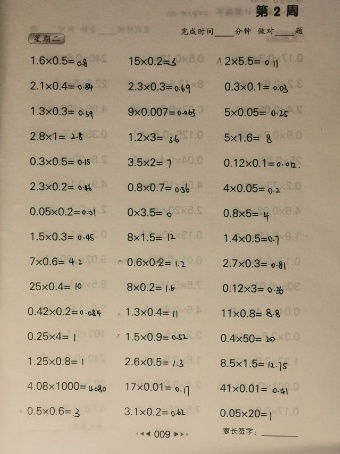equation: (25, 380, 108, 394), (28, 53, 90, 71), (221, 156, 298, 170), (124, 380, 192, 395), (222, 79, 290, 94), (125, 105, 197, 119), (28, 104, 95, 119), (26, 305, 103, 318), (218, 382, 289, 396), (218, 357, 289, 371), (126, 79, 192, 94), (214, 54, 280, 69), (222, 105, 290, 119), (220, 257, 287, 271), (28, 79, 95, 93), (116, 256, 188, 269), (125, 181, 191, 195), (217, 406, 274, 422), (220, 282, 285, 296), (27, 205, 97, 218), (29, 230, 96, 243), (222, 231, 280, 246), (124, 331, 190, 344), (122, 405, 187, 418), (28, 180, 93, 193), (28, 155, 92, 168), (122, 355, 185, 368), (220, 307, 282, 320), (25, 404, 82, 418), (221, 182, 282, 195), (26, 355, 86, 368), (124, 305, 179, 319), (219, 332, 277, 345), (125, 230, 178, 244), (28, 280, 84, 293), (28, 255, 84, 268), (28, 130, 84, 143), (126, 54, 178, 68), (126, 131, 181, 144), (125, 280, 176, 294), (220, 207, 271, 221), (222, 131, 273, 145), (25, 330, 77, 343), (125, 205, 173, 219), (125, 155, 173, 169)
